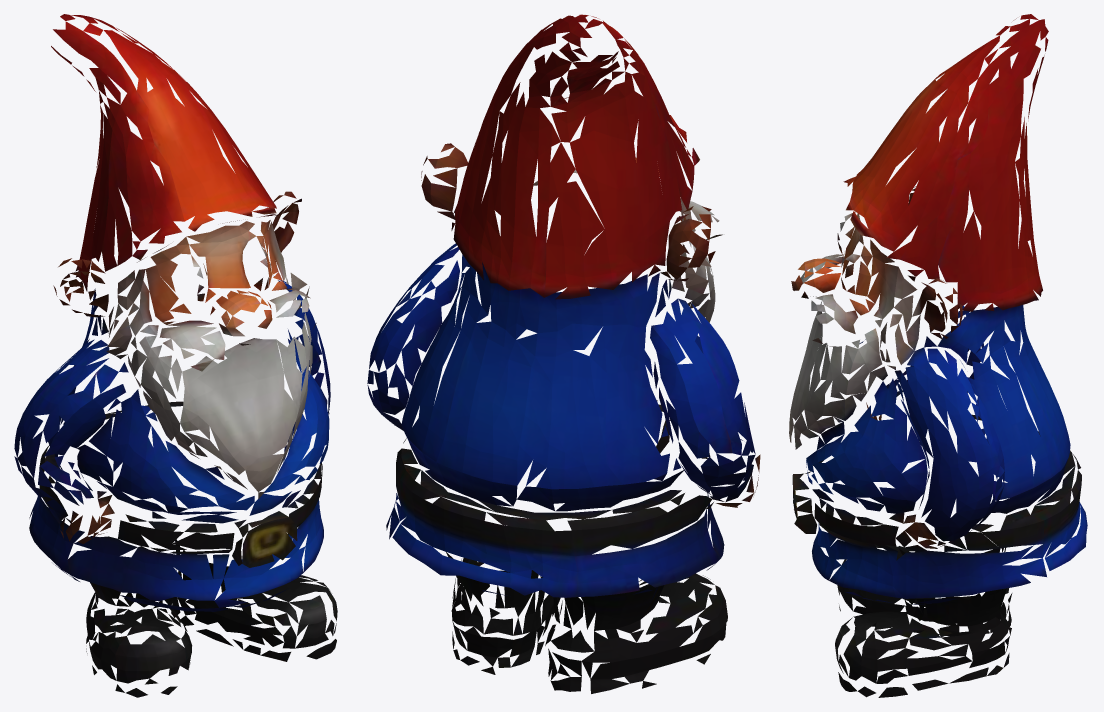
The model's file is gnome1.glb.
The picture shows the model from 3 angles, left to right: view 1: azimuth 30°, elevation 25°; view 2: azimuth 150°, elevation 25°; view 3: azimuth 270°, elevation 25°; orthographic projection. The views are drawn at different scales.
Parts seen in each view (by area): view 1: world.001; view 2: world.001; view 3: world.001.
Boxes of the visible parts, x1,y1,x2,y2 form: world.001: [14, 14, 337, 697]; world.001: [367, 14, 760, 693]; world.001: [789, 14, 1087, 697].
Size of the model in its own units: 0.5439 by 0.9997 by 0.4593.
Materials: 1 (1 with a texture image).
